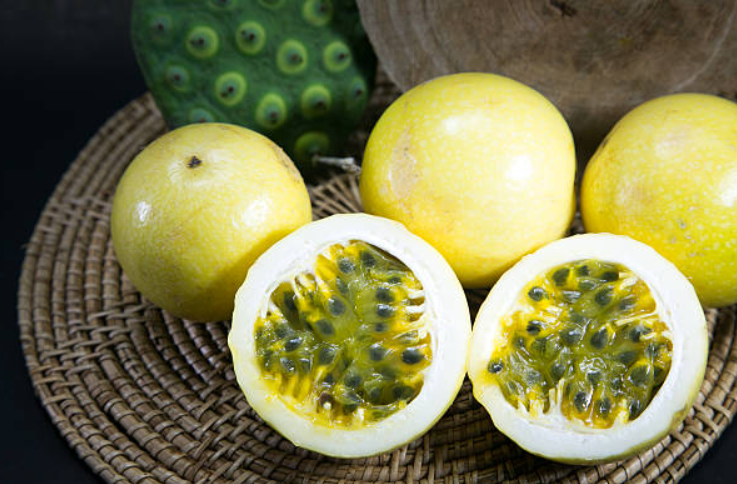maracuya: (355, 71, 584, 281), (105, 116, 320, 328)
